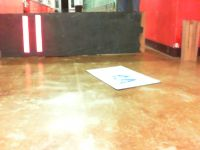switch: (21, 15, 30, 53), (35, 15, 43, 53)
